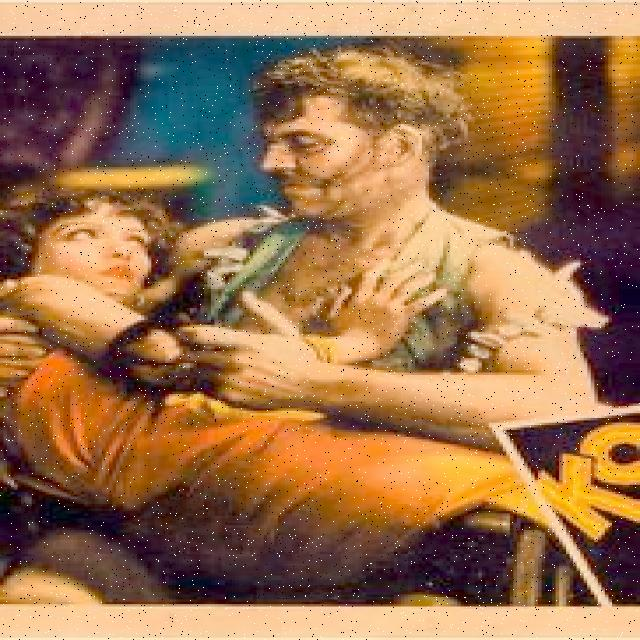picture: (3, 37, 638, 610)
